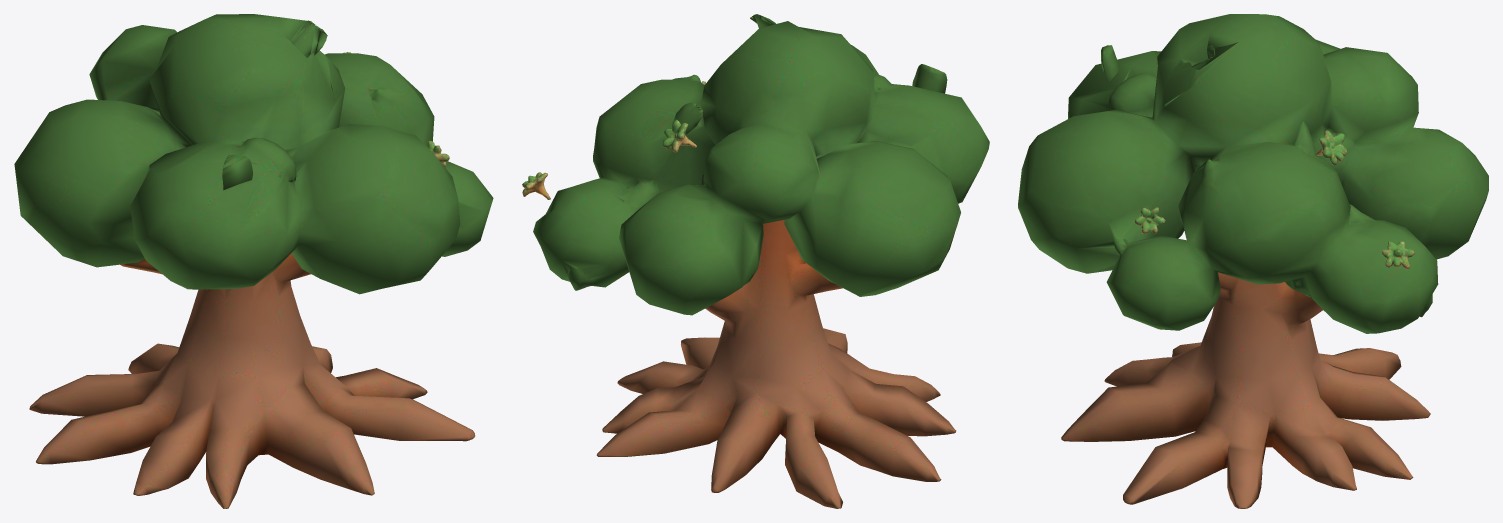
The model's file is model_web.glb.
3 views of the same model, side by side, from view 1: azimuth 30°, elevation 25°; view 2: azimuth 150°, elevation 25°; view 3: azimuth 270°, elevation 25° (orthographic). The views are drawn at different scales.
Parts seen in each view (by area): view 1: tripo_node_4321daba-9b6e-4297-9ec4-9689856df9ea; view 2: tripo_node_4321daba-9b6e-4297-9ec4-9689856df9ea; view 3: tripo_node_4321daba-9b6e-4297-9ec4-9689856df9ea.
Part boxes in pixels (<box>): tripo_node_4321daba-9b6e-4297-9ec4-9689856df9ea: <box>14,14,493,508</box>; tripo_node_4321daba-9b6e-4297-9ec4-9689856df9ea: <box>522,14,989,508</box>; tripo_node_4321daba-9b6e-4297-9ec4-9689856df9ea: <box>1018,14,1488,508</box>.
Size of the model in its own units: 0.9434 by 0.9395 by 0.998.
1 material, 1 textured.
